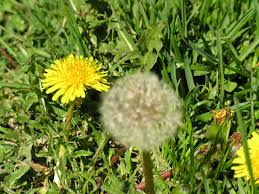dandelion white: (99, 70, 184, 150)
dandelion yellow: (41, 53, 110, 106), (230, 132, 259, 186)
